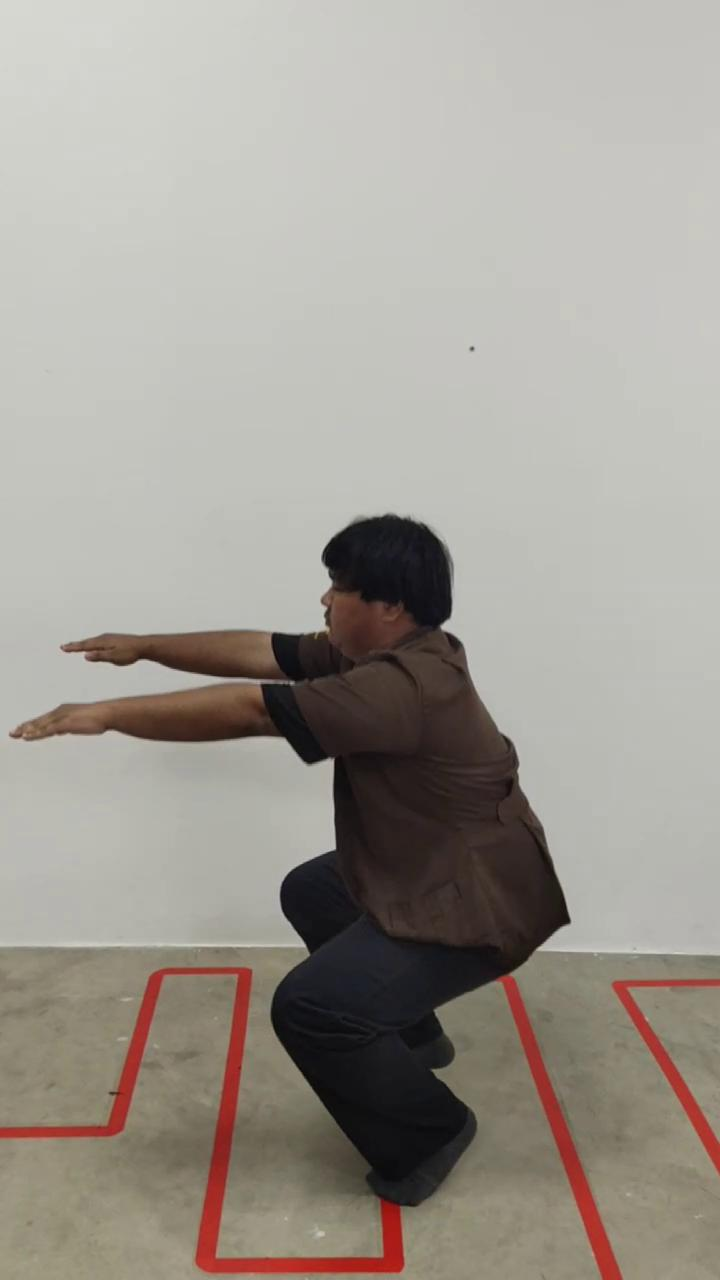squat down: (50, 513, 569, 1208)
